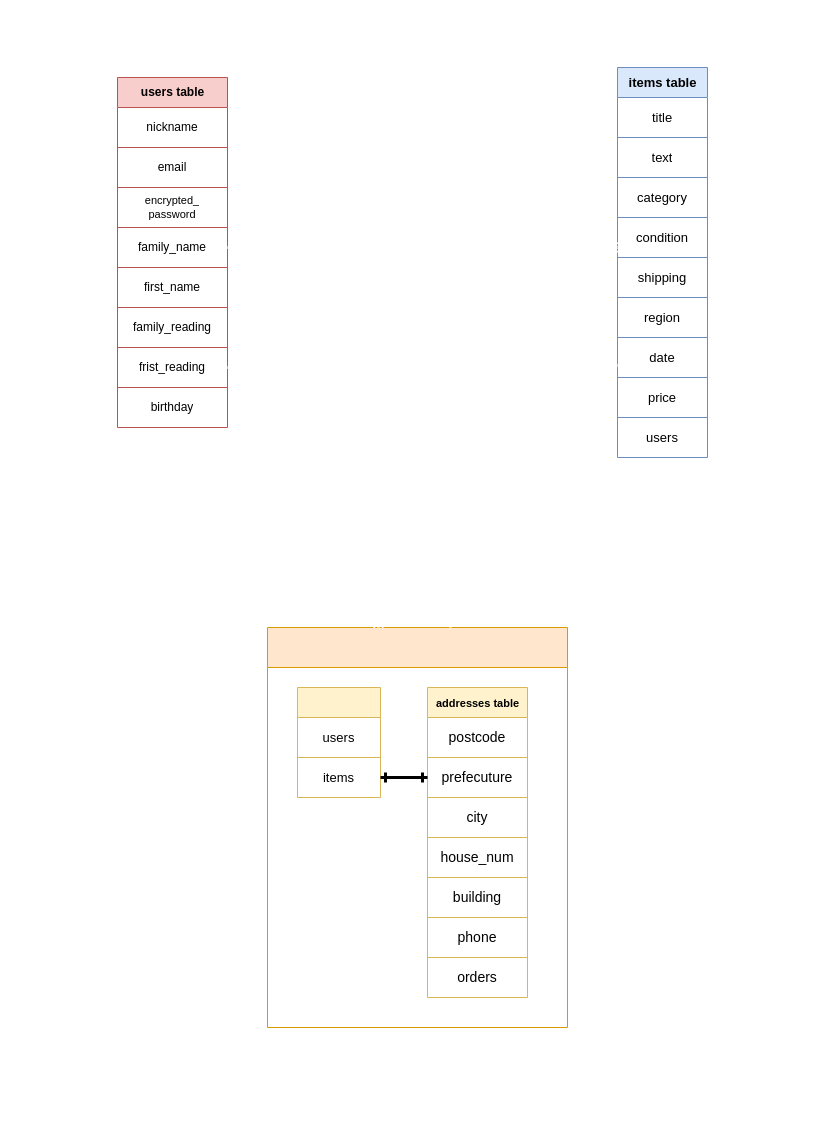
Some shapes in this 834 by 1124 pixel diagram are drawn without their labels. The shapes that lost their labels are listed below. From the top down, each one's box as (x1, y1, x2, y2) in pixels, then its label:
(296, 686, 380, 798): orders table
(266, 626, 568, 1028): parent/child
